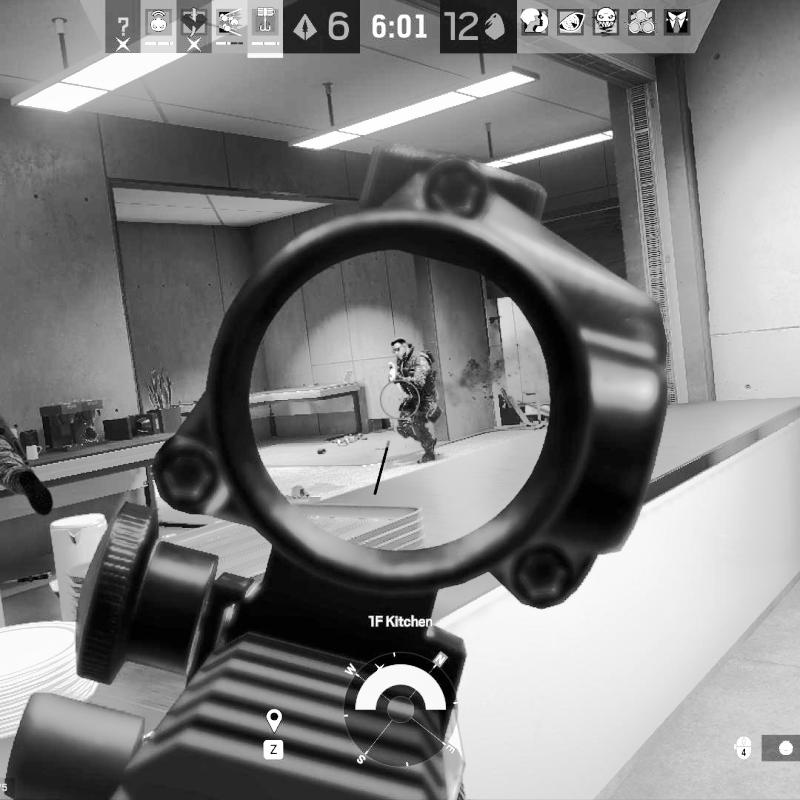Character: (386, 336, 444, 466), (0, 416, 59, 519)
Head: (390, 336, 409, 359)
